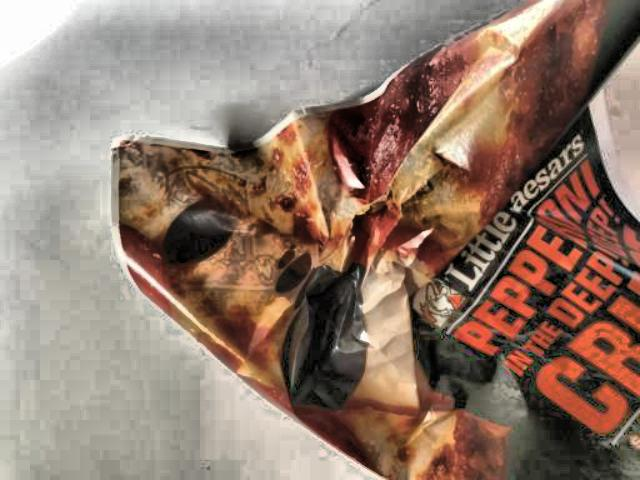Paper: (114, 0, 640, 480)
